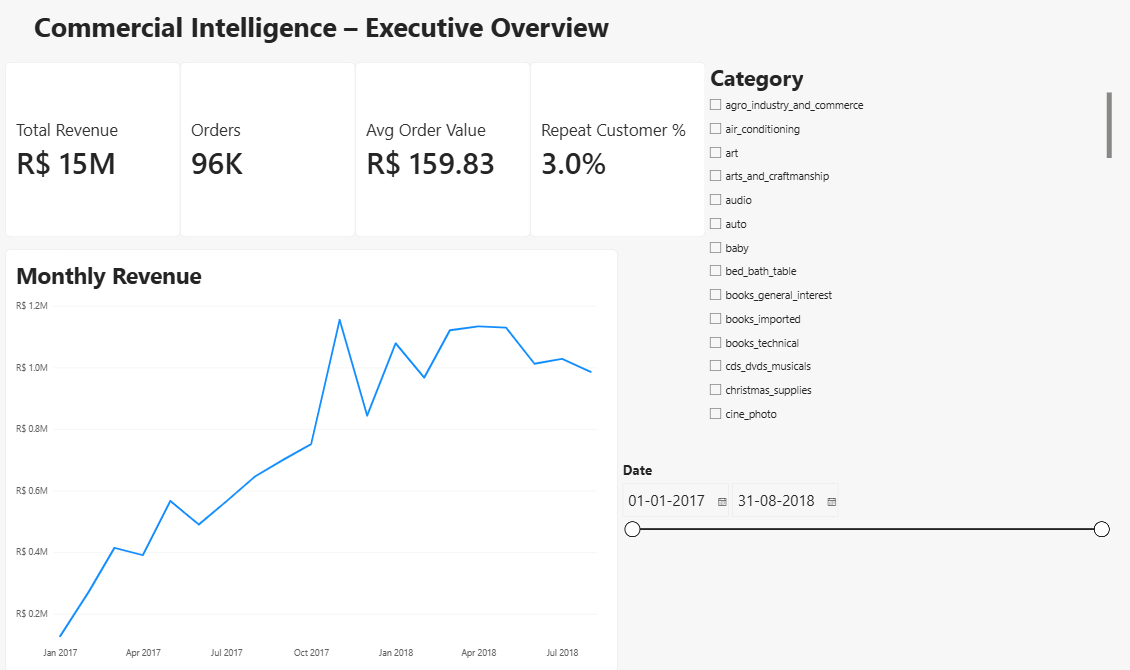

This screenshot's page, from the dashboard's own definition file:
{"tool":"powerbi","page":{"name":"Executive Overview","canvas":[1920,1080],"ordinal":0},"visuals":[{"type":"cardVisual","fields":{"Data":["fact_sales.Total Revenue"]},"box":[10.3,105,280,280],"z":0},{"type":"cardVisual","fields":{"Data":["fact_sales.Orders"]},"box":[290.2,105,280,280],"z":1000},{"type":"cardVisual","fields":{"Data":["fact_sales.Avg Order Value"]},"box":[570.2,105,280,280],"z":2000},{"type":"cardVisual","fields":{"Data":["fact_sales.Repeat Customer %"]},"box":[850.1,105,280,280],"z":3000},{"type":"lineChart","title":"Monthly Revenue","fields":{"Category":["Calendar.Month Start"],"Y":["fact_sales.Total Revenue"]},"box":[10.3,403.4,979.8,677.2],"z":4000},{"type":"slicer","fields":{"Values":["fact_sales.category"]},"box":[1130,104,650,586],"z":5000},{"type":"slicer","fields":{"Values":["Calendar.Date"]},"box":[990,742,790.4,170.8],"z":6000},{"type":"textbox","box":[56,18,934.5,63.8],"z":7000}]}

Visuals, with their boxes on the page's 1920x1080 design canvas (x1, y1, x2, y2). These are canvas units, not pixel positions in the 1130x670 screenshot, which may show the page scaled, cropped or inside an application window:
cardVisual - fact_sales.Total Revenue: (10, 105, 290, 385)
cardVisual - fact_sales.Orders: (290, 105, 570, 385)
cardVisual - fact_sales.Avg Order Value: (570, 105, 850, 385)
cardVisual - fact_sales.Repeat Customer %: (850, 105, 1130, 385)
"Monthly Revenue" lineChart: (10, 403, 990, 1081)
slicer - fact_sales.category: (1130, 104, 1780, 690)
slicer - Calendar.Date: (990, 742, 1780, 913)
textbox: (56, 18, 990, 82)
